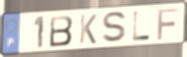1: (33, 15, 46, 51)
B: (49, 14, 75, 49)
F: (156, 7, 181, 41)
K: (78, 13, 98, 45)
L: (132, 10, 152, 42)
S: (100, 10, 129, 45)
